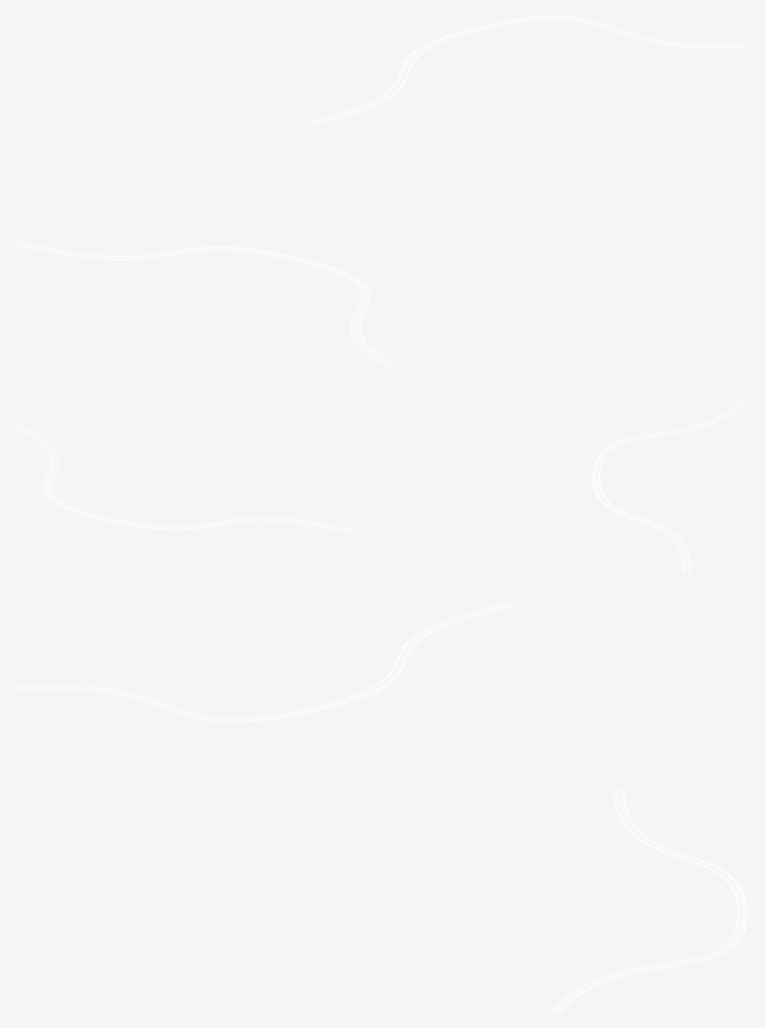
File: road.glb
The picture shows the model from 3 angles, top to bottom: view 1: azimuth 30°, elevation 25°; view 2: azimuth 150°, elevation 25°; view 3: azimuth 270°, elevation 25°; orthographic projection. The views are drawn at different scales.
Parts seen in each view (by area): view 1: BezierCurve; view 2: BezierCurve; view 3: BezierCurve.
Part boxes in pixels (bbox=[...]): BezierCurve: bbox=[15, 15, 750, 368]; BezierCurve: bbox=[16, 398, 748, 572]; BezierCurve: bbox=[14, 602, 747, 1013].
Size of the model in its own units: 92.85 by 3.03e-06 by 70.04.
1 material, 1 textured.
